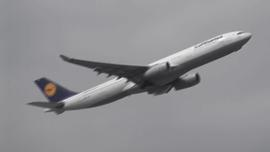aircraft: (27, 30, 253, 116)
